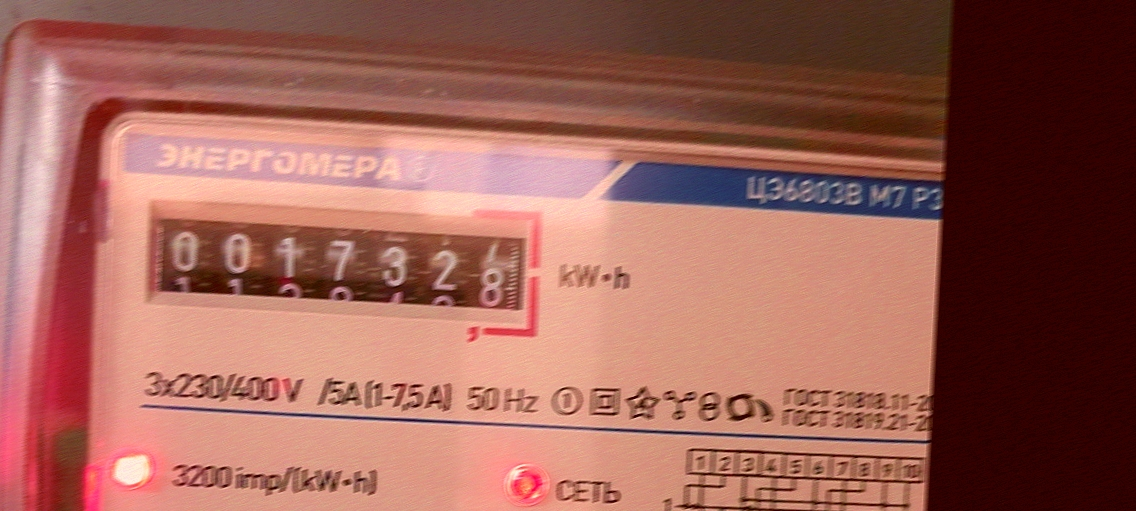0: (168, 227, 203, 273), (222, 227, 254, 274)
1: (276, 231, 300, 278)
2: (429, 245, 460, 292)
3: (380, 242, 409, 287)
7: (326, 235, 356, 283)
8: (477, 263, 505, 307)
screen: (134, 191, 551, 341)
